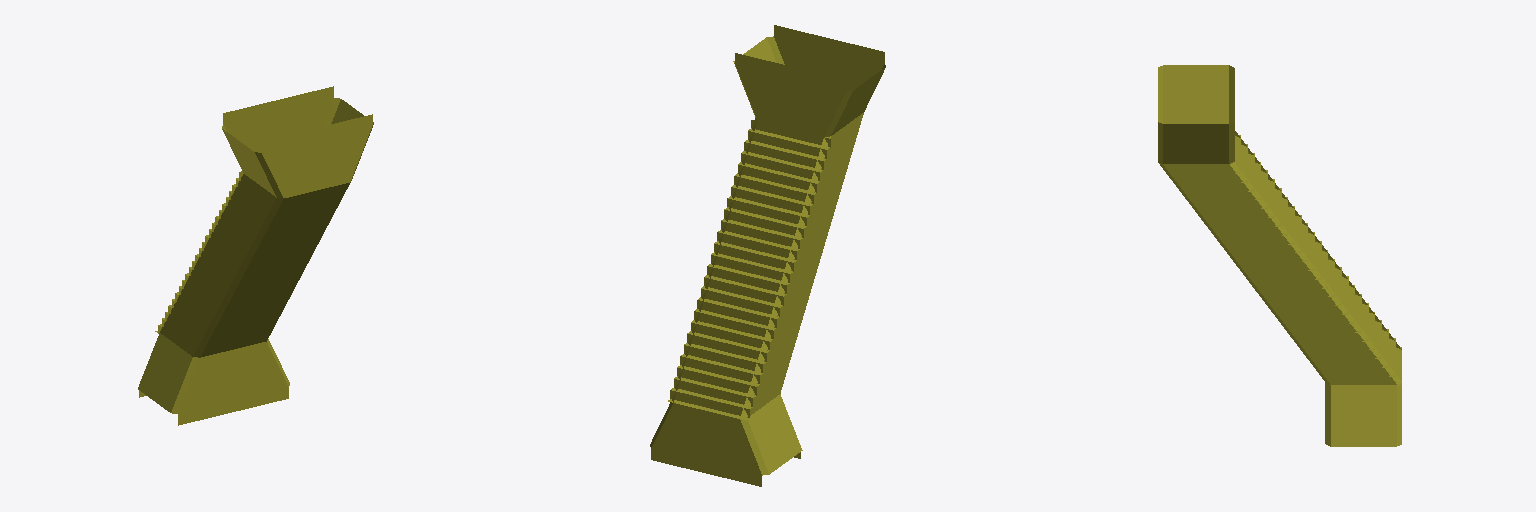
The model's file is Stairway.obj.
3 views of the same model, side by side, from view 1: azimuth 30°, elevation 25°; view 2: azimuth 150°, elevation 25°; view 3: azimuth 270°, elevation 25° (orthographic).
Parts seen in each view (by area): view 1: SM_Stairway_E; view 2: SM_Stairway_E; view 3: SM_Stairway_E.
Boxes of the visible parts, x1=… form: SM_Stairway_E: x1=138, y1=86, x2=373, y2=425; SM_Stairway_E: x1=650, y1=25, x2=885, y2=486; SM_Stairway_E: x1=1158, y1=65, x2=1401, y2=446.
Size of the model in its own units: 213 by 587 by 376.